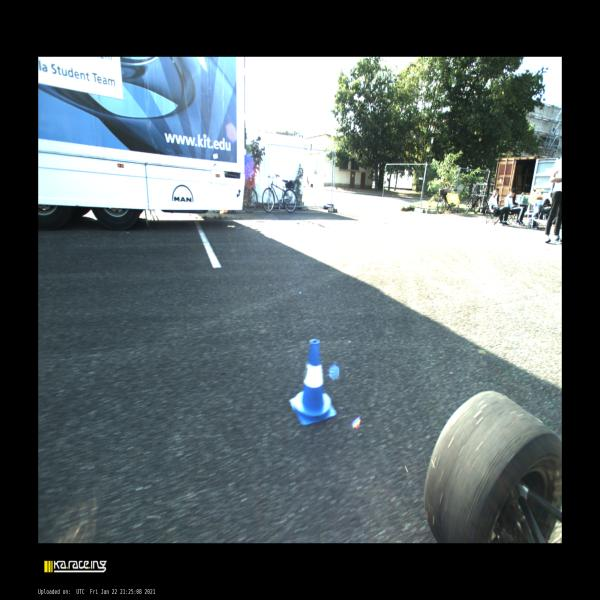blue_cone: (289, 338, 336, 425)
